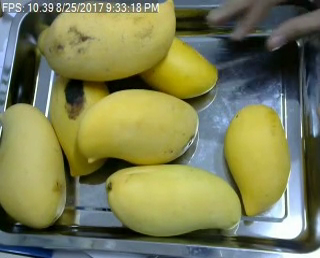Mango: (35, 0, 177, 81), (106, 164, 239, 236), (77, 90, 198, 168), (0, 102, 66, 225), (226, 103, 291, 215), (50, 67, 110, 178), (128, 29, 218, 95)
